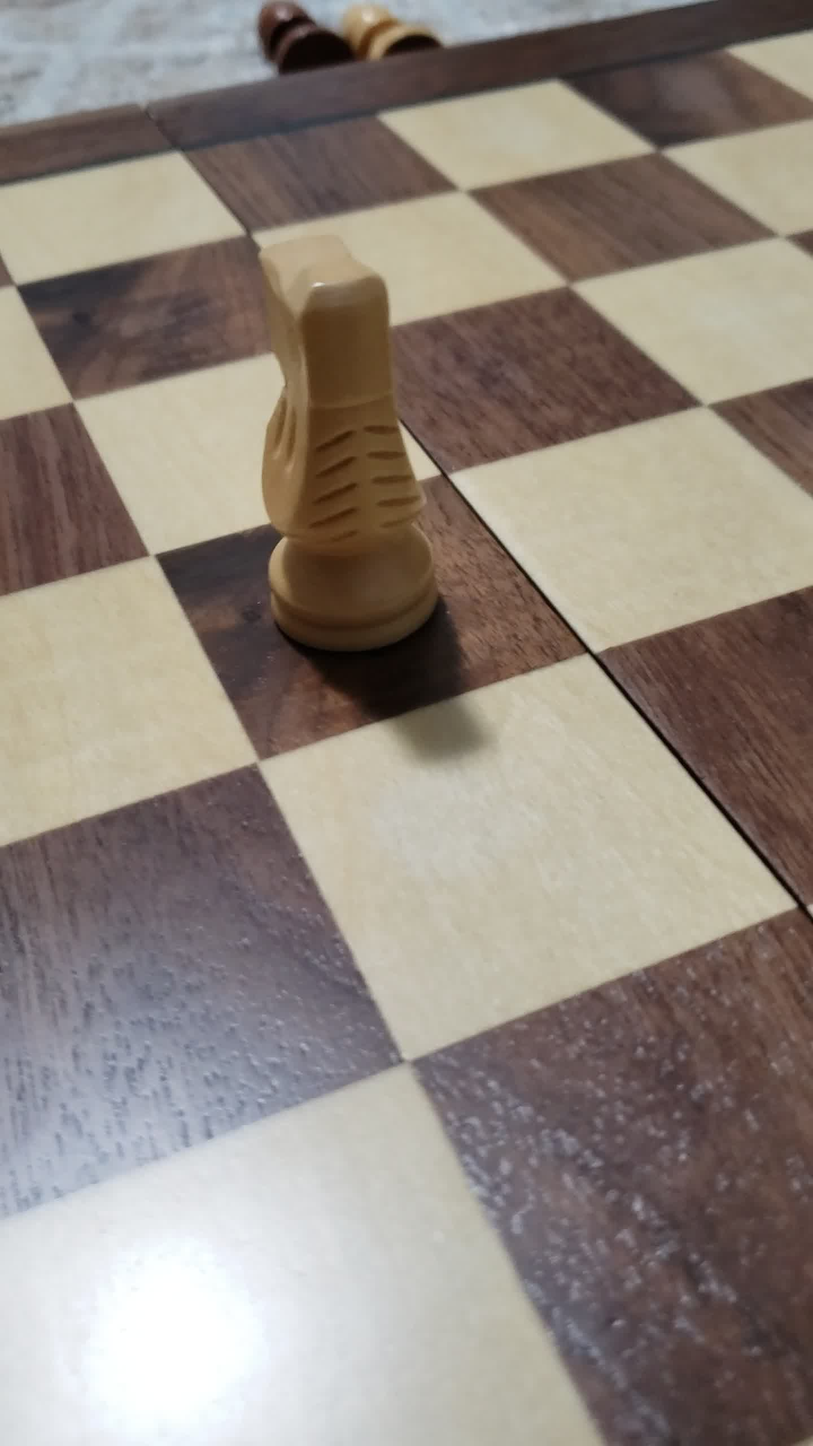white-knight: (181, 210, 491, 705)
